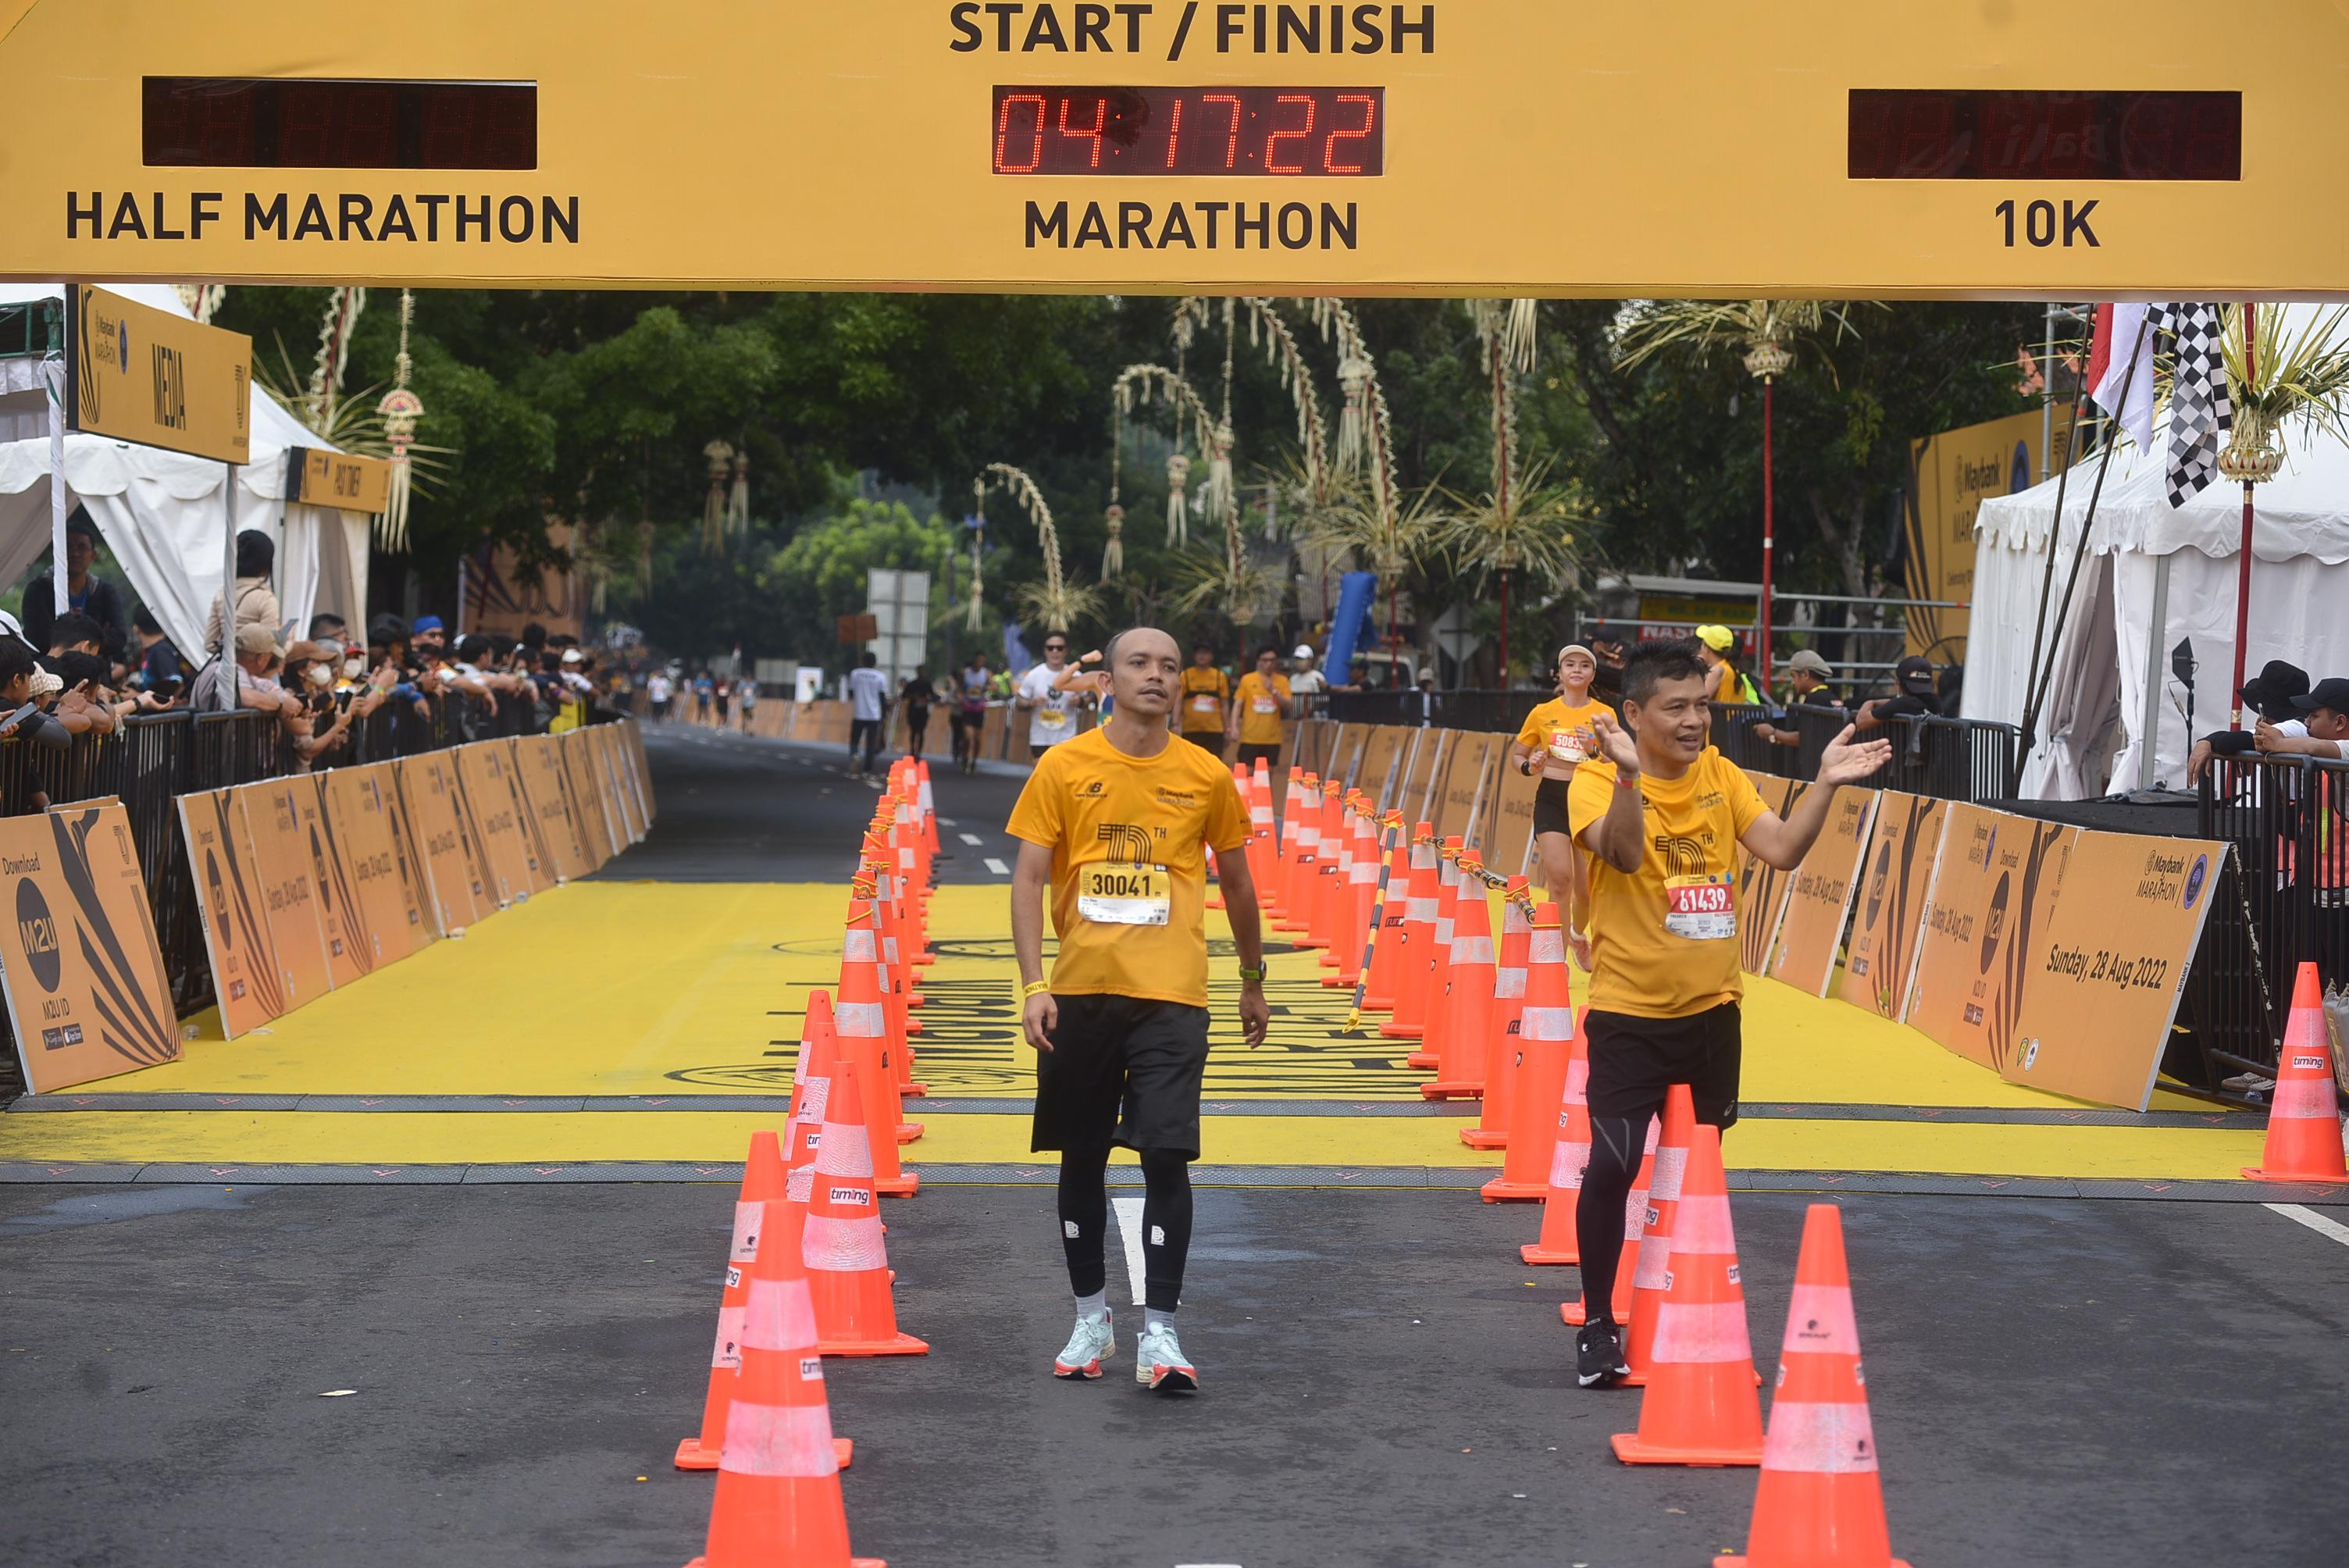bib: (1080, 861, 1169, 926), (1666, 877, 1736, 940), (1551, 730, 1588, 763), (1038, 709, 1066, 730), (1253, 696, 1278, 712), (1197, 691, 1213, 712)
